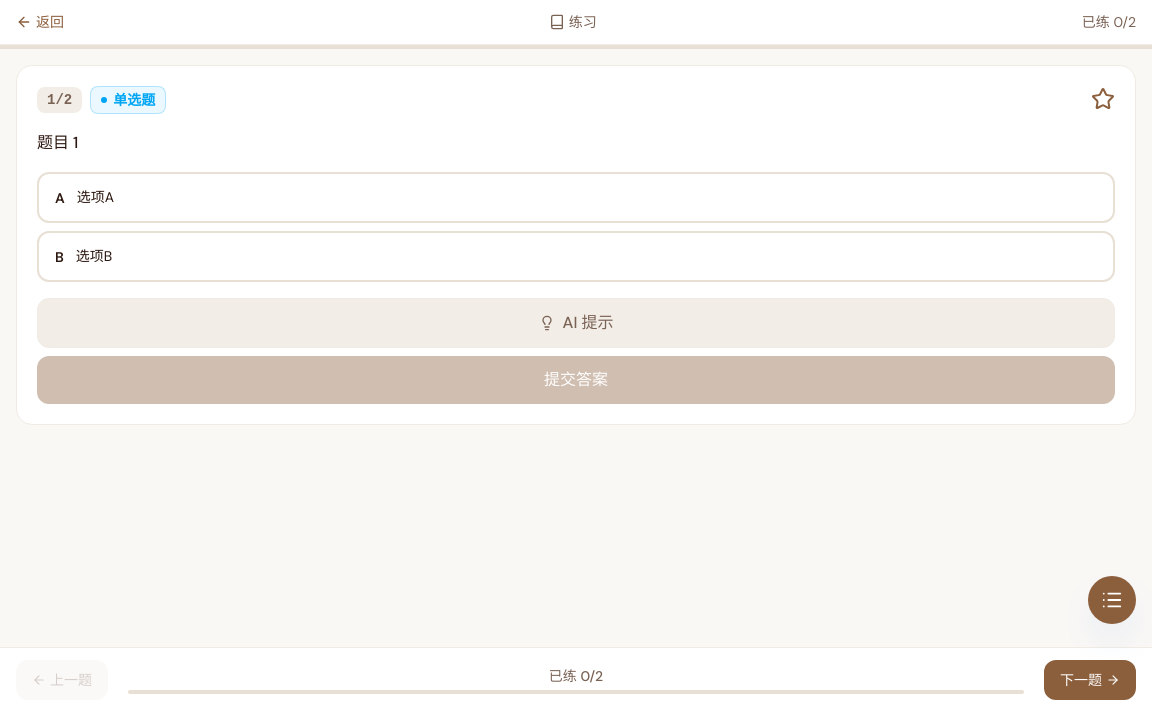
Test: random mode navigation › finish screen appears when all sampled questions are answered in random mode
The width and height of the screenshot is (1152, 720).
Expected: the text "题目 1" is shown, x1=37 y1=132 x2=78 y2=153
Click the text "选项A" at [95, 197], box x1=77 y1=186 x2=114 y2=209
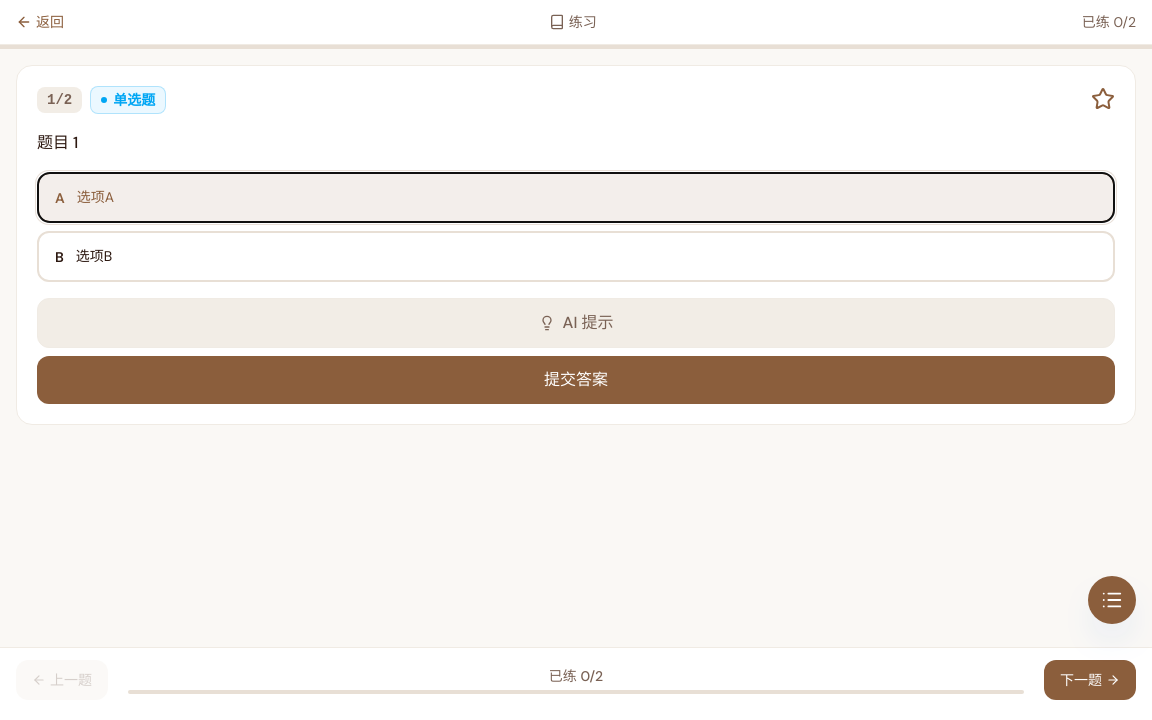
Click the button "提交答案" at [576, 380], box x1=37 y1=356 x2=1115 y2=404
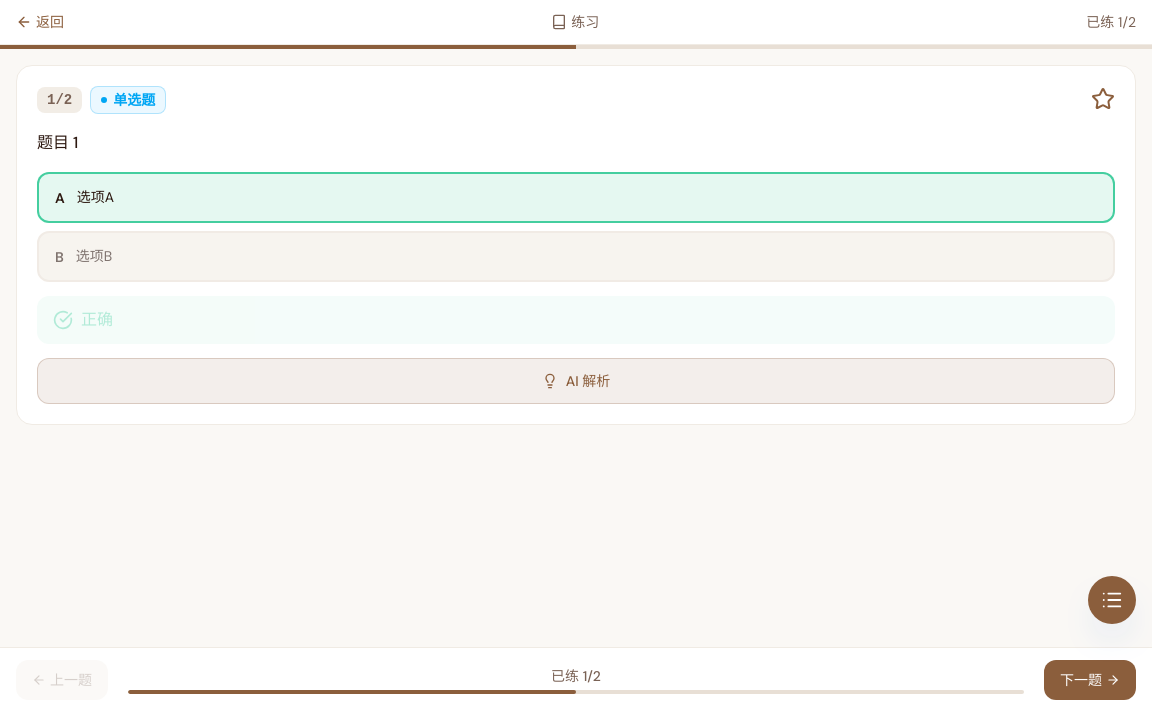
Click the button "下一题" at [1090, 680], box x1=1044 y1=660 x2=1136 y2=700
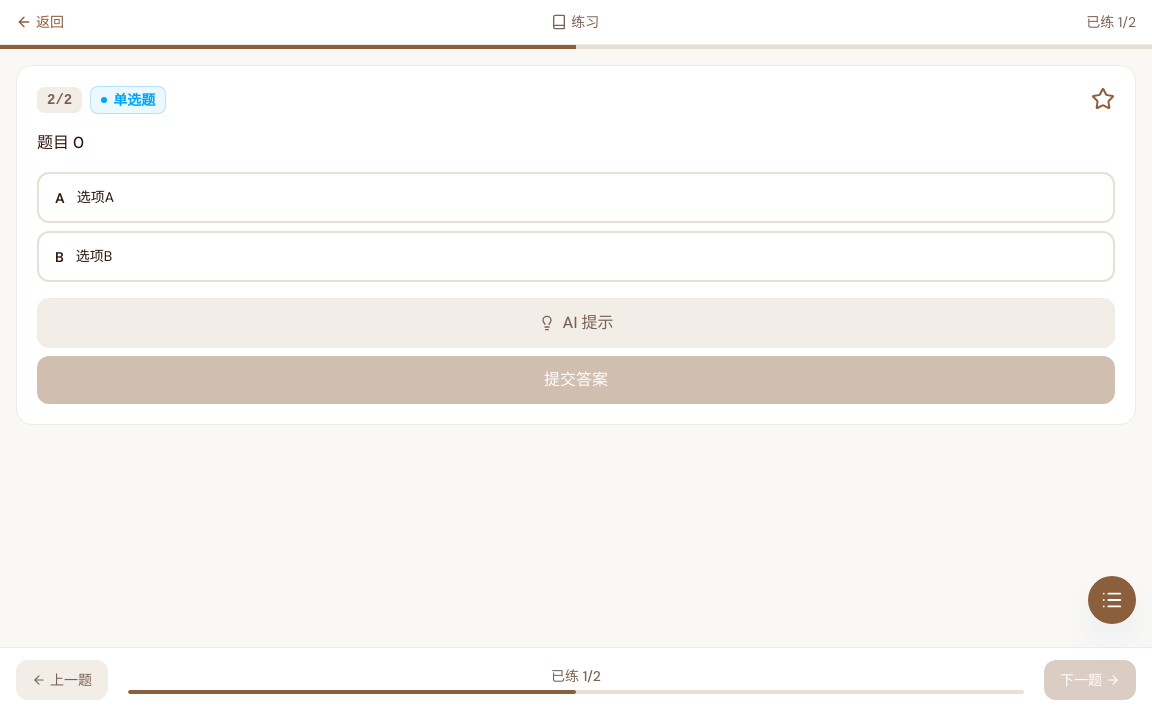
Expected: the text "题目 0" is shown, x1=37 y1=132 x2=84 y2=153
Click the text "选项A" at [95, 197], box x1=77 y1=186 x2=114 y2=209
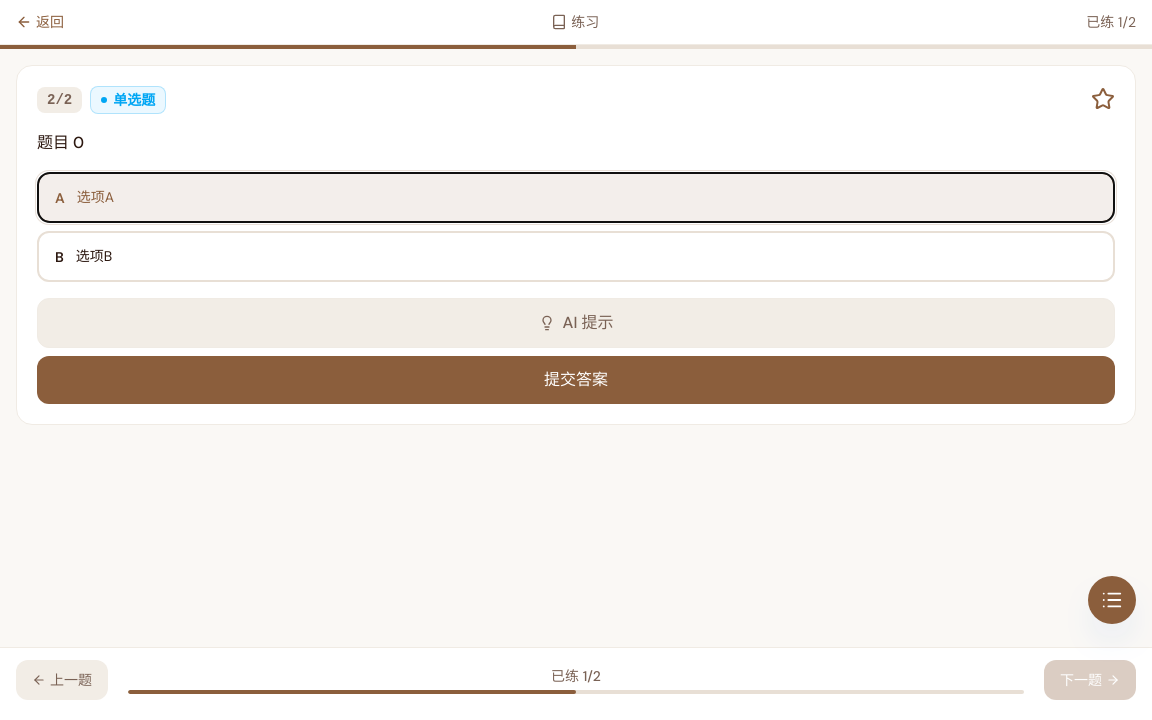
Click the button "提交答案" at [576, 380], box x1=37 y1=356 x2=1115 y2=404
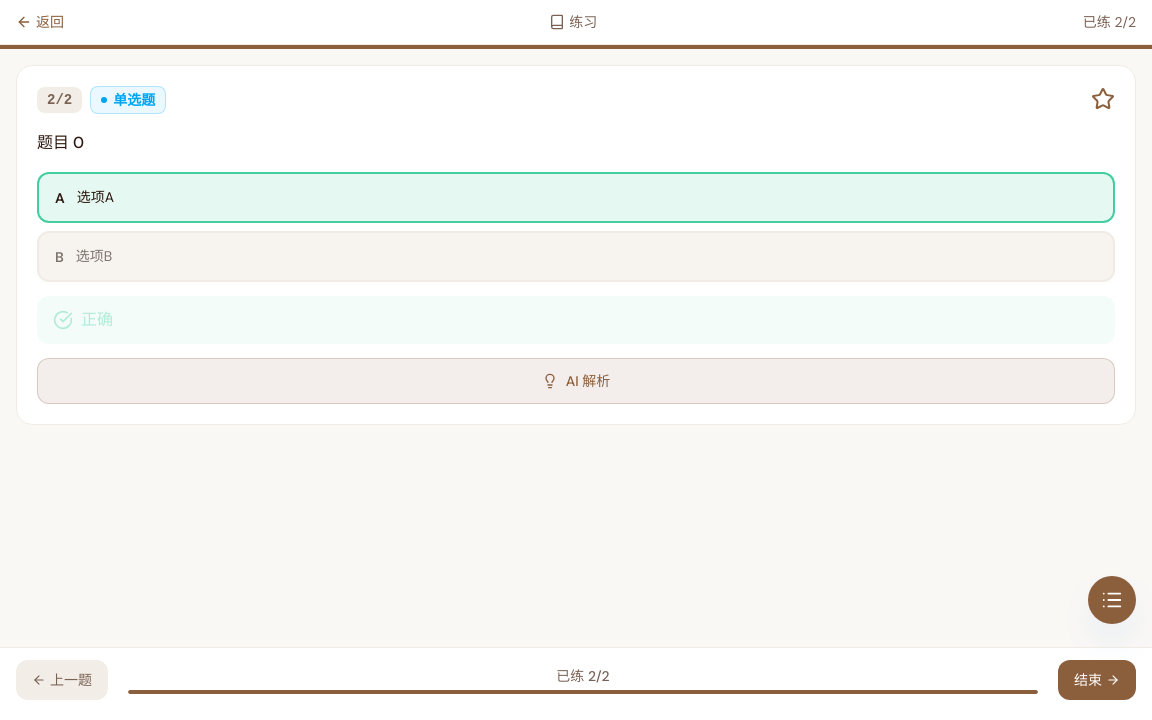
Expected: the button "结束" is shown
Click the button "结束" at [1097, 680], box x1=1058 y1=660 x2=1136 y2=700
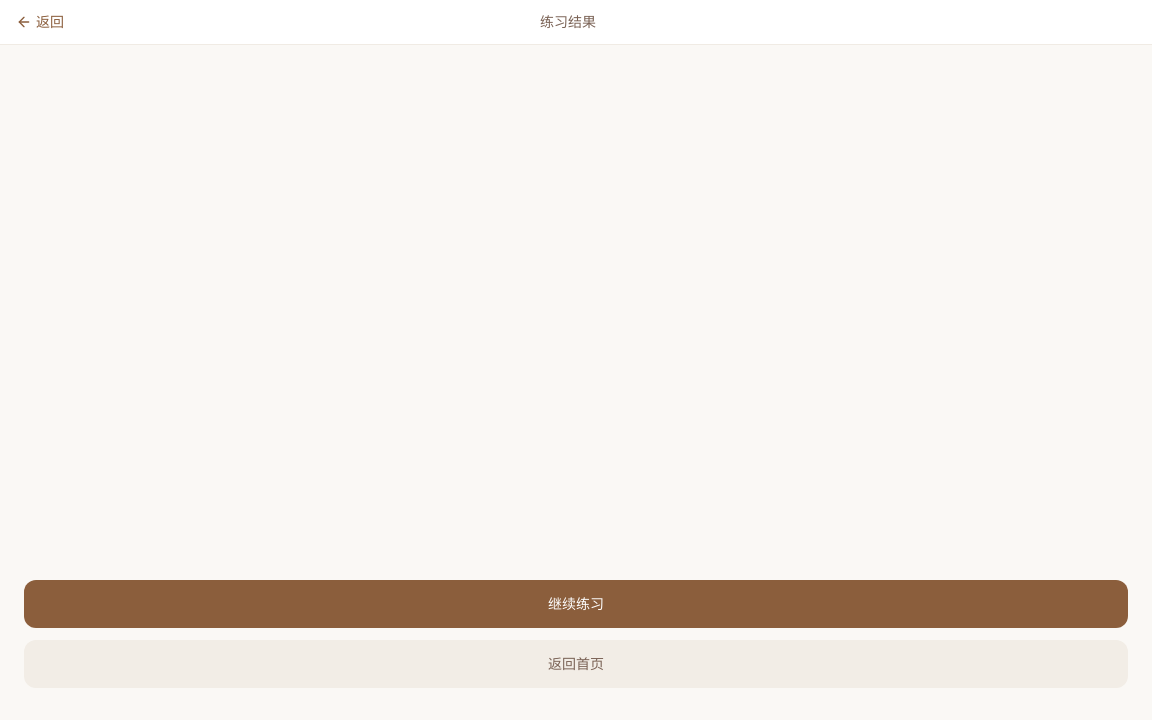
Expected: the text "练习结果" is shown, x1=540 y1=12 x2=596 y2=32
